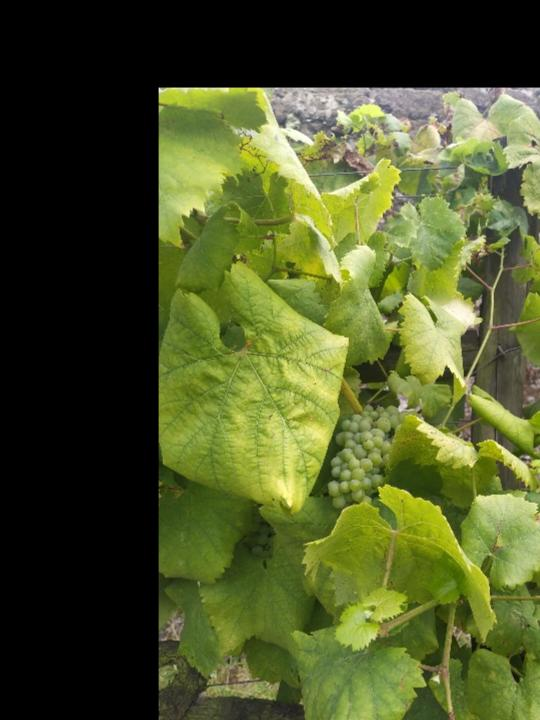grape: (326, 405, 400, 511)
